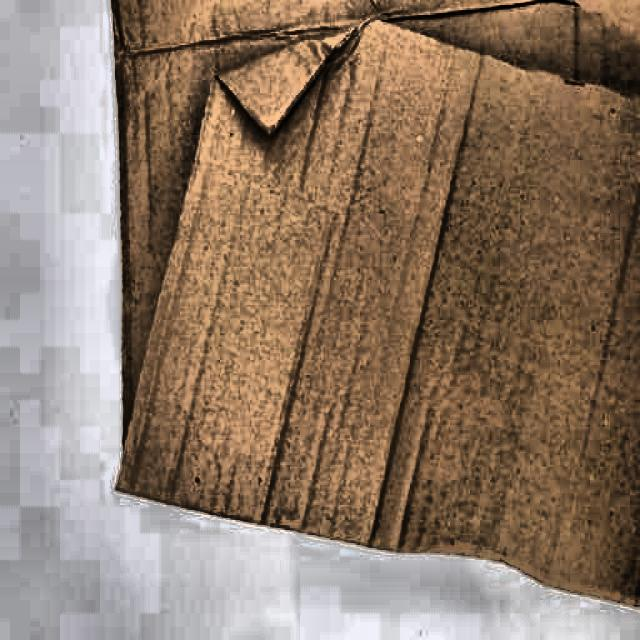cardboard: (109, 0, 640, 622)
